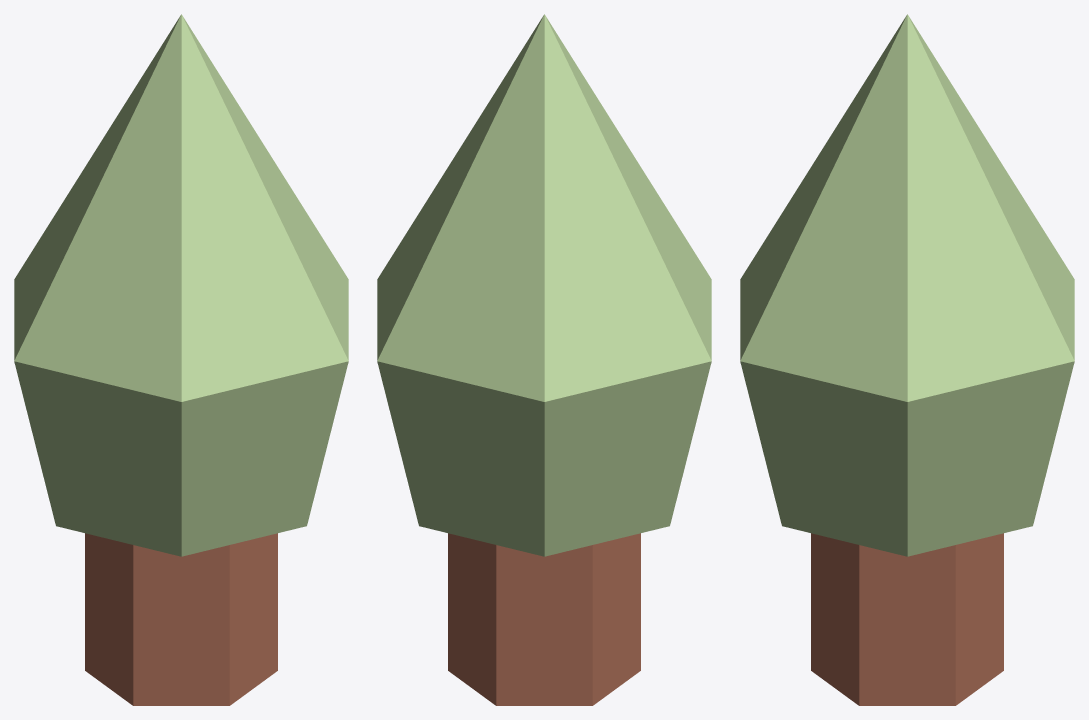
File: shu3.obj
The picture shows the model from 3 angles, left to right: view 1: azimuth 30°, elevation 25°; view 2: azimuth 150°, elevation 25°; view 3: azimuth 270°, elevation 25°; orthographic projection.
Bounding box in the file's own units: 0.8 × 1.5 × 0.6928.
